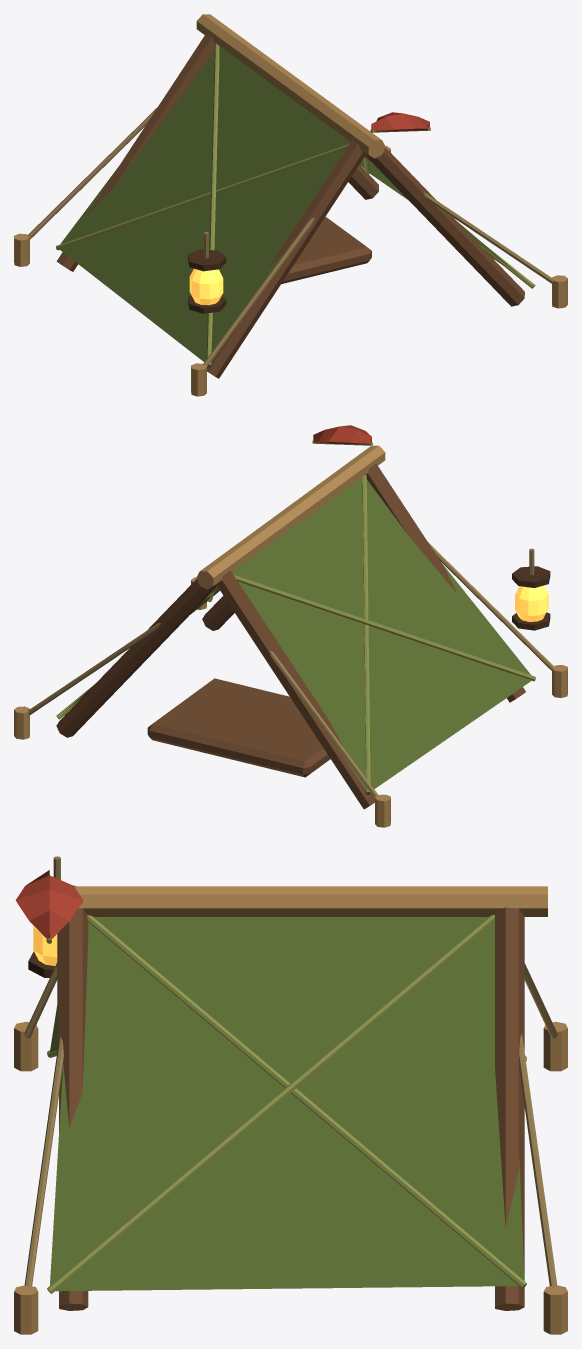
File: watch-bivouac.glb
3 views of the same model, one above another, from view 1: azimuth 30°, elevation 25°; view 2: azimuth 150°, elevation 25°; view 3: azimuth 270°, elevation 25° (orthographic). The views are drawn at different scales.
Visible parts, largest first — view 1: watch-bivouac; view 2: watch-bivouac; view 3: watch-bivouac.
Boxes of the visible parts, x1=… form: watch-bivouac: x1=14, y1=14, x2=567, y2=396; watch-bivouac: x1=14, y1=425, x2=567, y2=827; watch-bivouac: x1=14, y1=856, x2=567, y2=1334.
Bounding box in the file's own units: 4.15 × 2.4 × 3.56.
